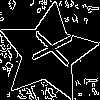X: (22, 28, 73, 68)
